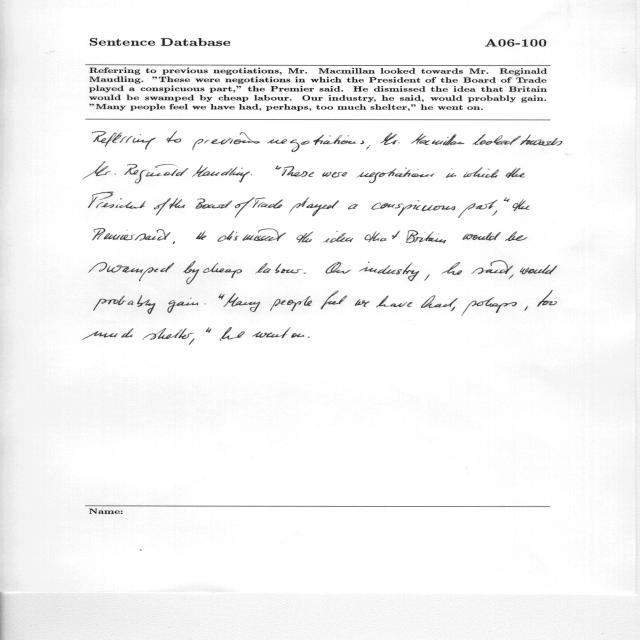word: (267, 135, 364, 152), (90, 262, 175, 281), (372, 200, 456, 216), (192, 132, 260, 150), (92, 131, 156, 150), (125, 164, 189, 183), (94, 295, 156, 314), (359, 262, 420, 281), (358, 168, 435, 183), (461, 297, 517, 316), (192, 165, 250, 182), (217, 228, 286, 242), (289, 198, 339, 217), (89, 192, 146, 208), (224, 293, 261, 312), (459, 200, 498, 218), (412, 134, 465, 146), (270, 296, 312, 311), (142, 328, 194, 340), (83, 328, 134, 340), (203, 263, 242, 278), (472, 261, 514, 274), (84, 162, 116, 179), (472, 134, 521, 145), (406, 230, 446, 243), (93, 229, 135, 241), (321, 291, 347, 310), (421, 295, 458, 308), (255, 263, 302, 273), (168, 298, 199, 313), (520, 135, 562, 146), (135, 229, 171, 241), (365, 231, 401, 243), (252, 328, 291, 339), (235, 197, 255, 218), (196, 198, 233, 209), (376, 296, 413, 307), (463, 167, 499, 178), (183, 261, 199, 285), (323, 231, 353, 243), (282, 166, 314, 177), (462, 232, 501, 241), (252, 198, 283, 209), (537, 290, 557, 307), (520, 265, 557, 274), (220, 328, 245, 341), (326, 262, 352, 274), (154, 198, 171, 216), (442, 262, 462, 275), (380, 133, 400, 145), (512, 199, 530, 212), (505, 231, 527, 241), (506, 168, 525, 178), (297, 232, 314, 243), (169, 198, 185, 209), (167, 131, 181, 143), (322, 172, 347, 178), (355, 299, 370, 307), (196, 231, 206, 240), (291, 333, 304, 338), (446, 173, 456, 178), (348, 204, 358, 209), (424, 274, 430, 281), (189, 338, 195, 345), (219, 294, 225, 300), (276, 165, 282, 170), (492, 210, 497, 216), (504, 198, 510, 203), (206, 327, 211, 333), (509, 275, 514, 280), (366, 145, 370, 150), (524, 306, 528, 311), (451, 307, 455, 311), (173, 241, 175, 244), (304, 273, 306, 274), (205, 304, 207, 305), (308, 337, 310, 338), (251, 174, 252, 175)
